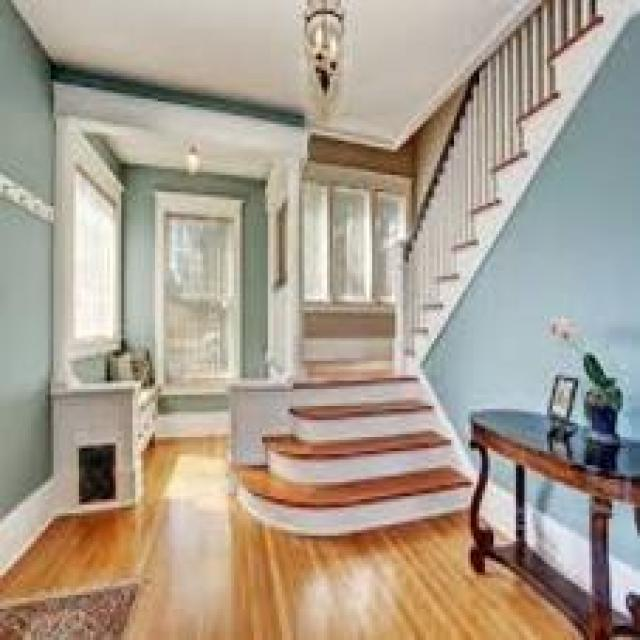upstair: (252, 379, 477, 517)
